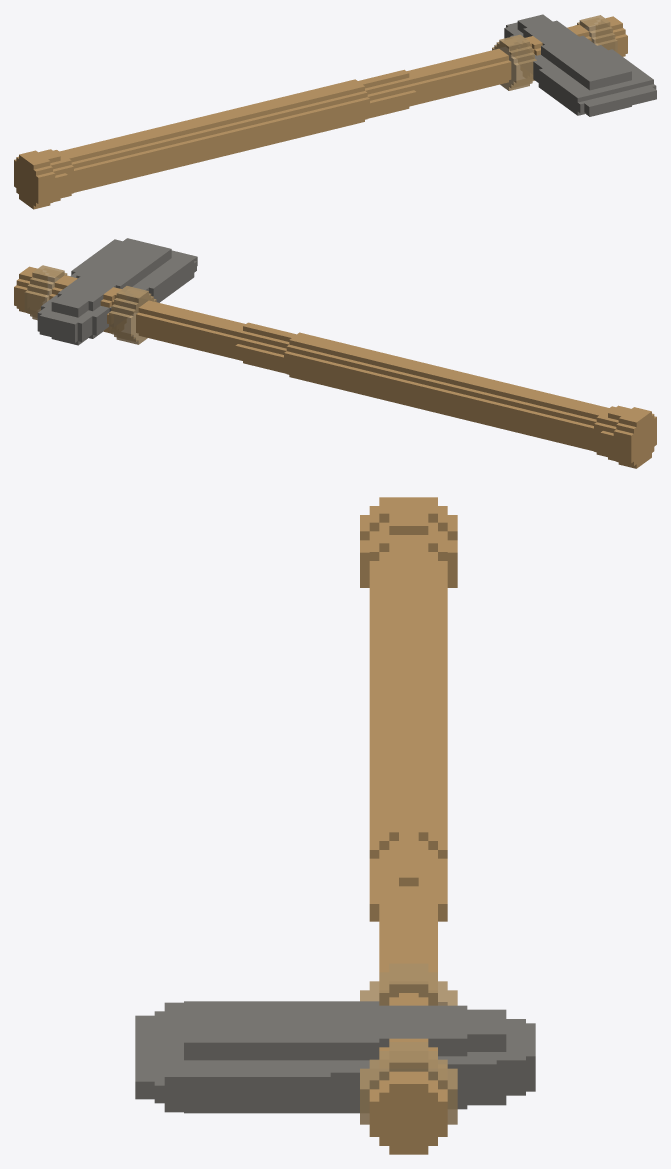
Rendered from primitive_axe.glb.
3 views of the same model, one above another, from view 1: azimuth 30°, elevation 25°; view 2: azimuth 150°, elevation 25°; view 3: azimuth 270°, elevation 25° (orthographic). The views are drawn at different scales.
Visible parts, largest first — view 1: primitive_axe:compound; view 2: primitive_axe:compound; view 3: primitive_axe:compound.
Part boxes in pixels (box(x1,y1,x2,y2)): primitive_axe:compound: box(14, 14, 656, 209); primitive_axe:compound: box(14, 238, 656, 468); primitive_axe:compound: box(135, 497, 535, 1154).
Bounding box in the file's own units: 0.56 × 0.04 × 0.164.
